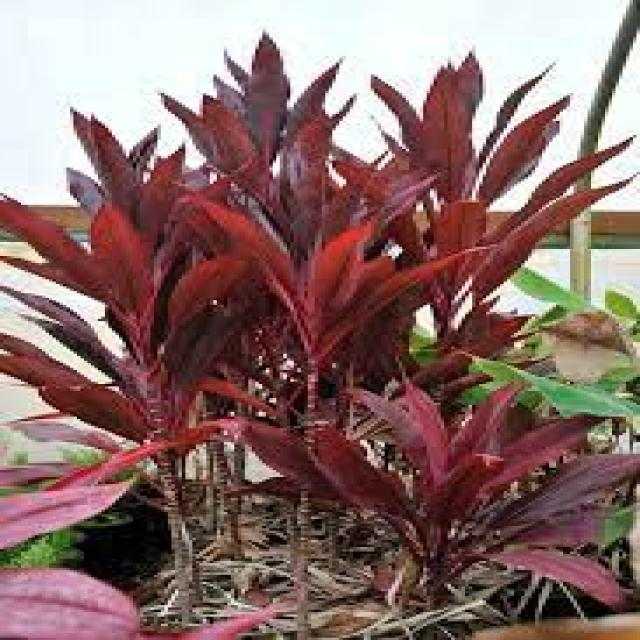Ti: (0, 88, 255, 618), (154, 37, 392, 517), (339, 49, 616, 437), (304, 382, 636, 610)
